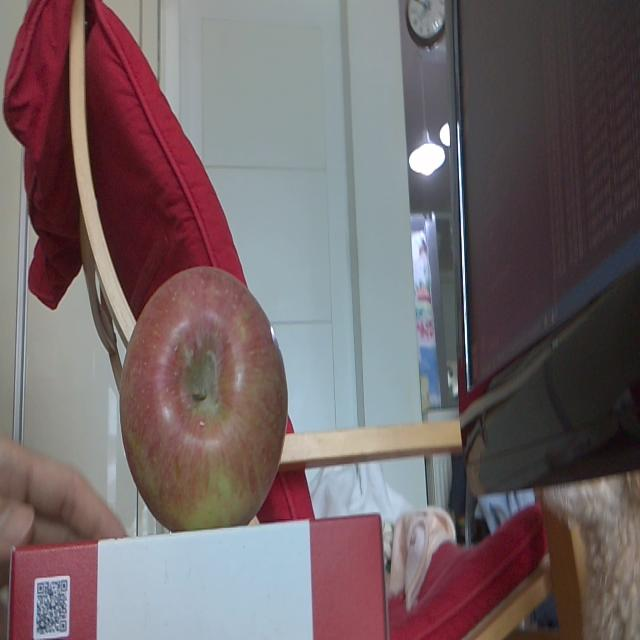apple: (119, 263, 288, 525)
